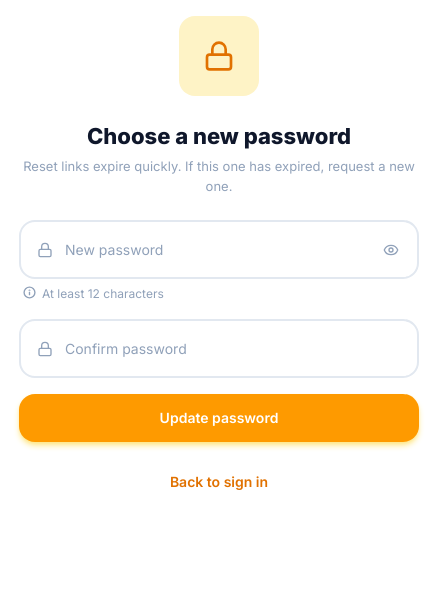
ResetPasswordPage › shows the invalid/expired message on a backend 400 AUTH_INVALID_CREDENTIALS
Expected: the heading "Choose a new password" is shown, [87,123,351,149]
Type "a-reasonable-passphrase" into the password field labelled "New password" at (219, 250), box [21,222,417,277]
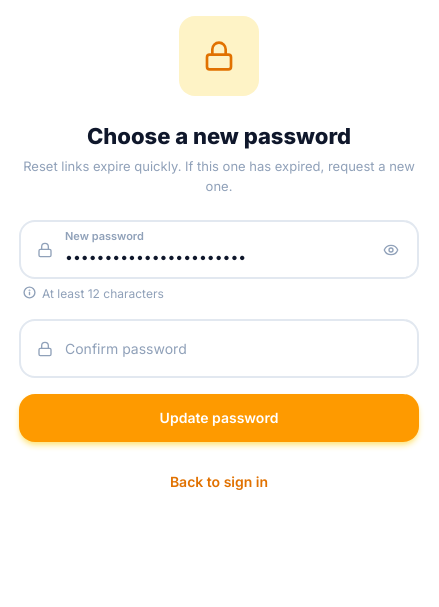
Type "a-reasonable-passphrase" into the password field labelled "Confirm password" at (219, 348), box [21,321,417,376]
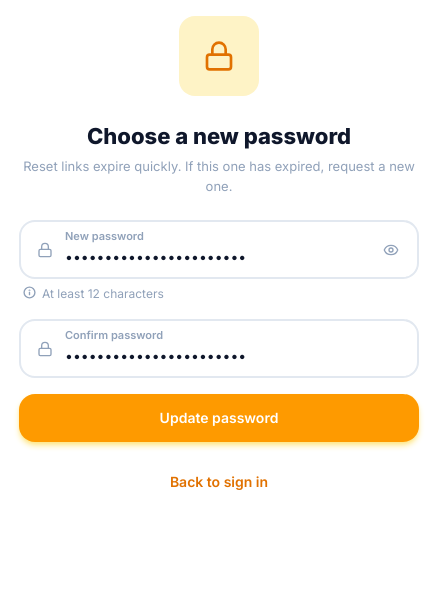
Click the button "Update password" at (219, 418), box [19,394,419,442]
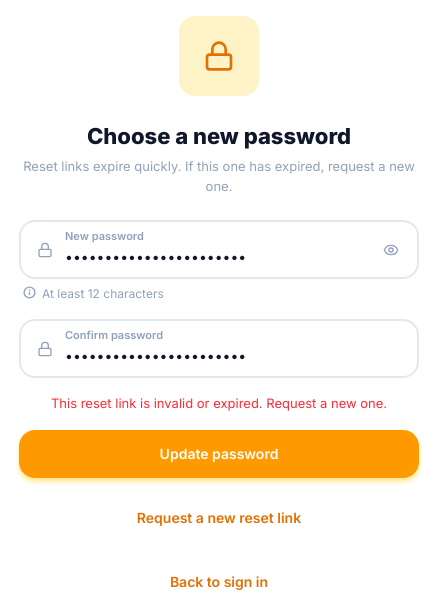
Result: the text "This reset link is invalid or expired. Request a new one." is shown at [51,395,387,411]
